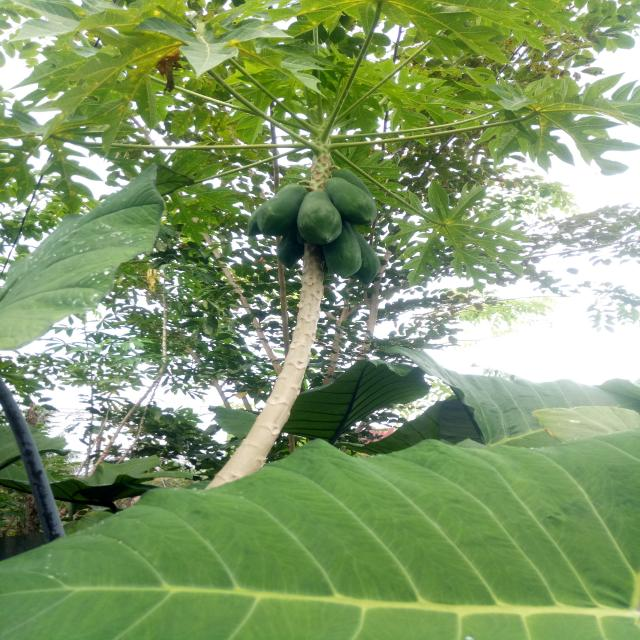Pepaya unrippen: (324, 180, 380, 226), (294, 190, 340, 245), (326, 247, 363, 276)
